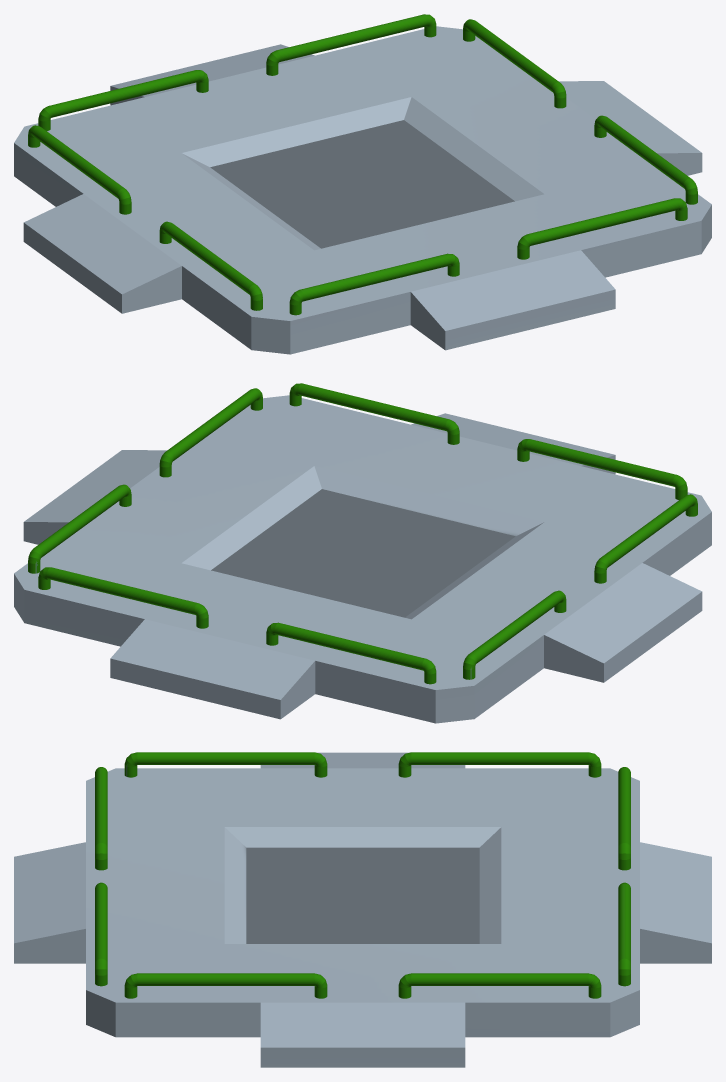
File: HealingPad.fbx
3 renders of one model, top to bottom at view 1: azimuth 30°, elevation 25°; view 2: azimuth 150°, elevation 25°; view 3: azimuth 270°, elevation 25°, orthographic. The views are drawn at different scales.
Visible parts, largest first — view 1: Healer; view 2: Healer; view 3: Healer.
Boxes of the visible parts, <box> form: Healer: <box>14,14,711,354</box>; Healer: <box>14,383,711,723</box>; Healer: <box>14,752,711,1067</box>.
Bounding box in the file's own units: 388 × 388 × 34.84.
